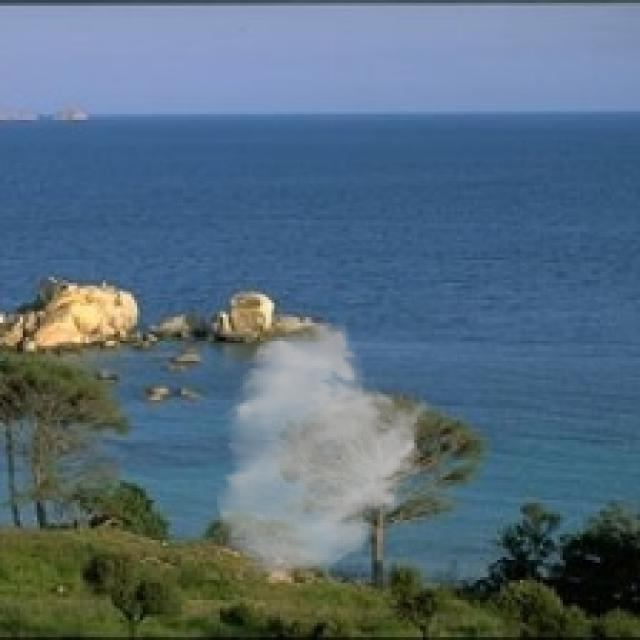smoke: (214, 317, 432, 583)
